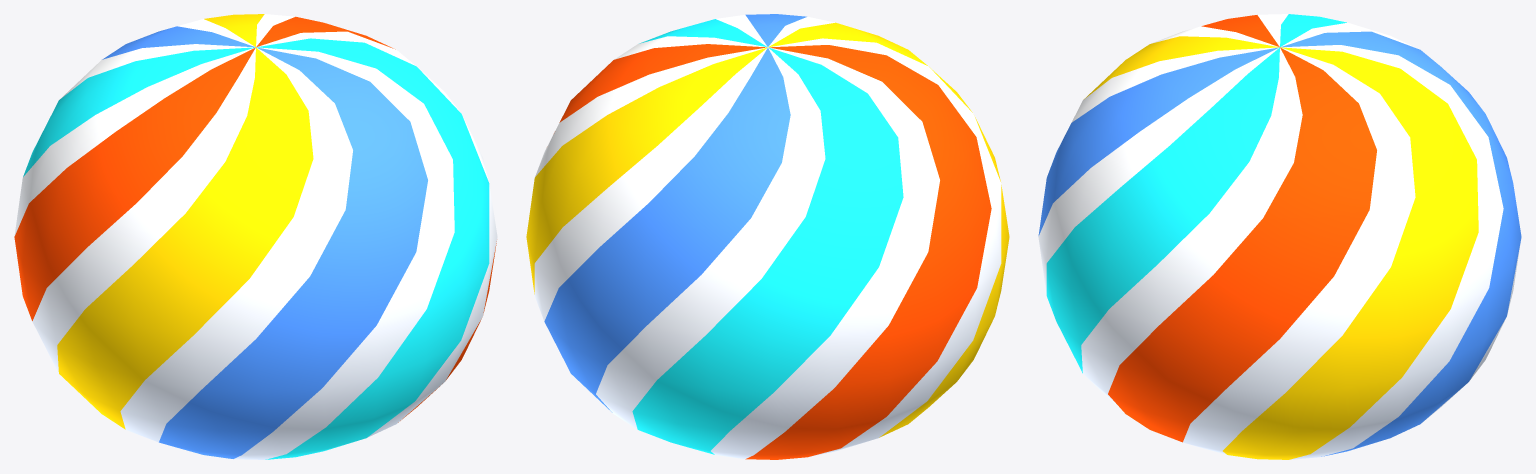
Rendered from Lollipop_09.glb.
3 renders of one model, left to right at view 1: azimuth 30°, elevation 25°; view 2: azimuth 150°, elevation 25°; view 3: azimuth 270°, elevation 25°, orthographic.
Parts seen in each view (by area): view 1: Lollipop_09; view 2: Lollipop_09; view 3: Lollipop_09.
Part boxes in pixels (x1=…): Lollipop_09: x1=14, y1=14, x2=497, y2=459; Lollipop_09: x1=526, y1=14, x2=1009, y2=459; Lollipop_09: x1=1038, y1=14, x2=1521, y2=459.
Bounding box in the file's own units: 2.1 × 1.82 × 2.1.
Materials: 1 (1 with a texture image).
